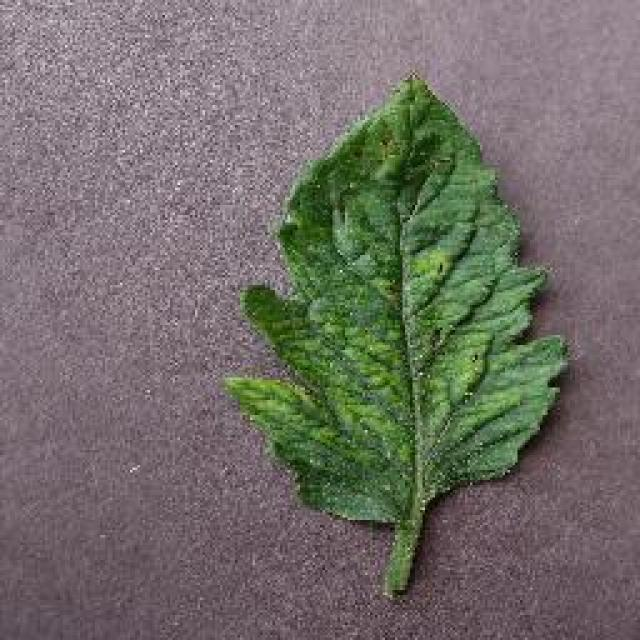Tomato spider mites leaf: (224, 74, 568, 526)
